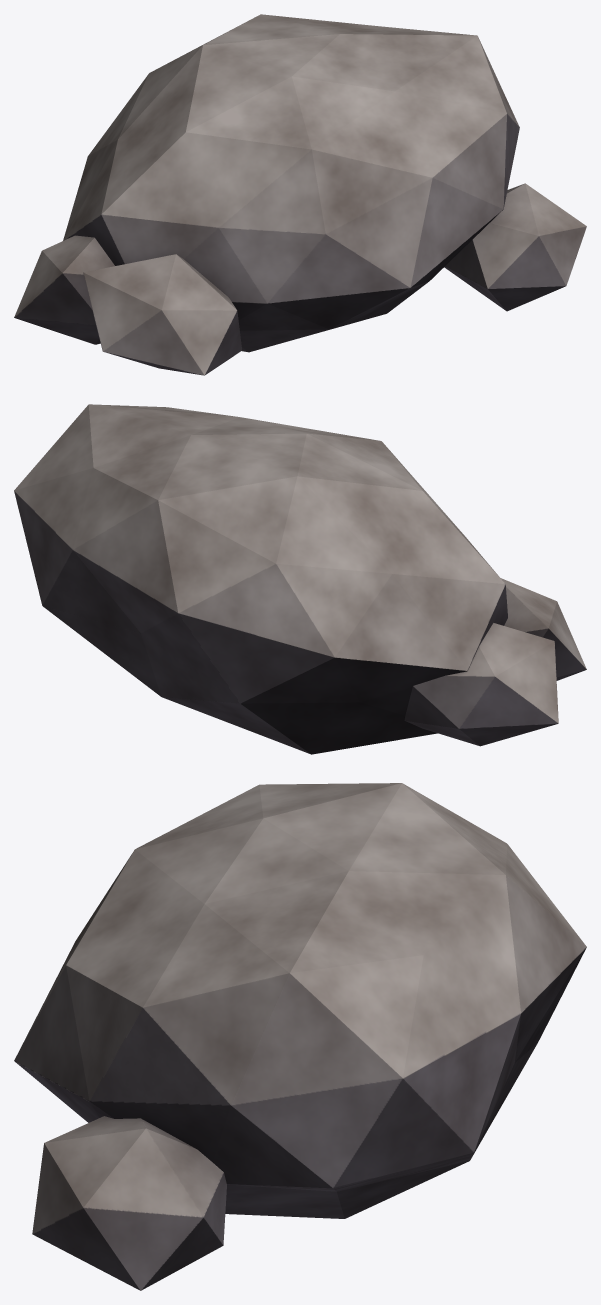
File: Env_Boulder_3.glb
3 renders of one model, top to bottom at view 1: azimuth 30°, elevation 25°; view 2: azimuth 150°, elevation 25°; view 3: azimuth 270°, elevation 25°, orthographic. The views are drawn at different scales.
Visible parts, largest first — view 1: Env_Boulder_3.001; view 2: Env_Boulder_3.001; view 3: Env_Boulder_3.001.
Part boxes in pixels (x1=…): Env_Boulder_3.001: x1=14, y1=14, x2=586, y2=375; Env_Boulder_3.001: x1=14, y1=404, x2=586, y2=754; Env_Boulder_3.001: x1=14, y1=783, x2=586, y2=1290.
Bounding box in the file's own units: 5 × 2.59 × 3.54.
Materials: 1 (1 with a texture image).
